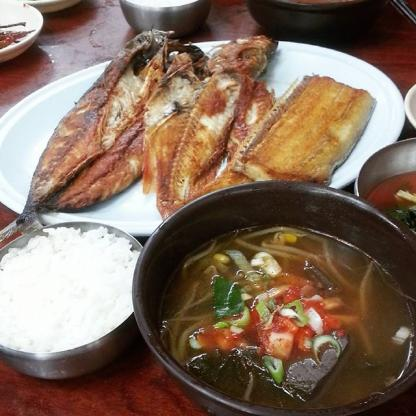Peixe: (52, 32, 264, 198)
